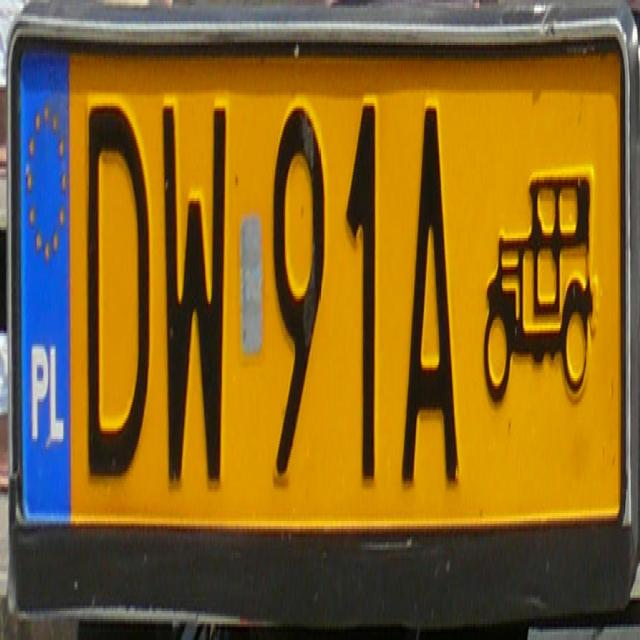pl_license_plate: (18, 45, 622, 524)
